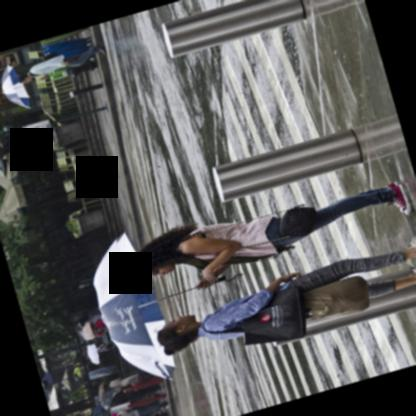handbag: (180, 202, 317, 248), (203, 284, 306, 344), (303, 274, 369, 318), (111, 383, 133, 390), (98, 341, 113, 348)
